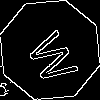W: (25, 25, 87, 88)
